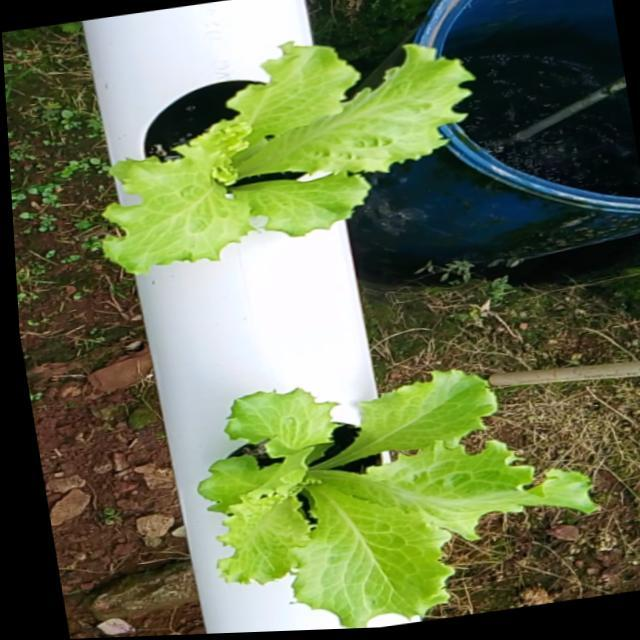Baby: (193, 373, 592, 629), (94, 40, 470, 275)
